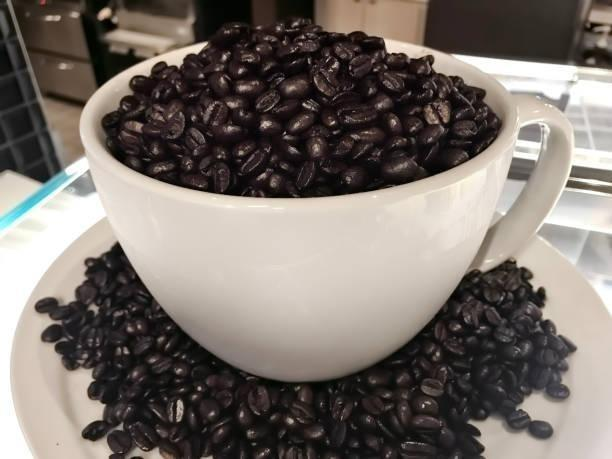cup-handle: (74, 32, 579, 392)
